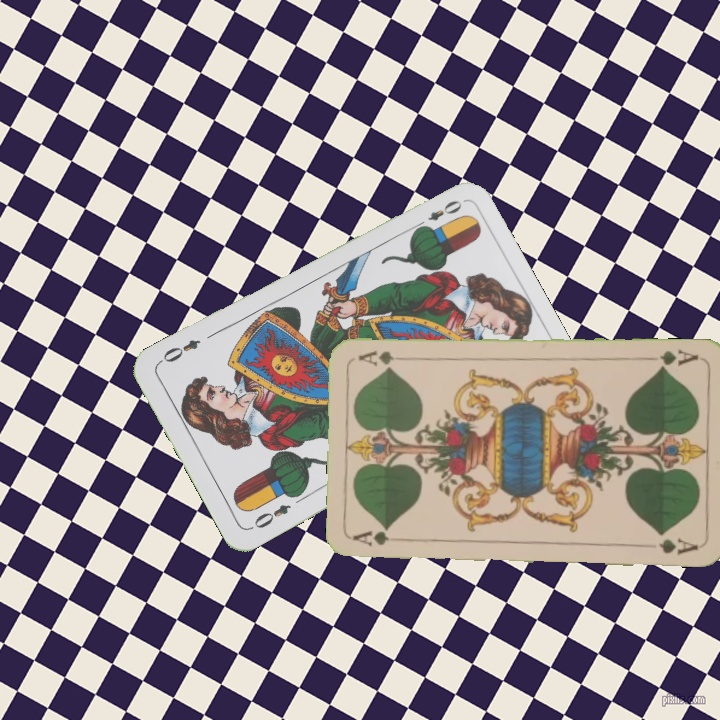EO: (410, 195, 465, 234), (246, 500, 294, 533)
GA: (643, 345, 701, 372), (350, 527, 409, 549)
